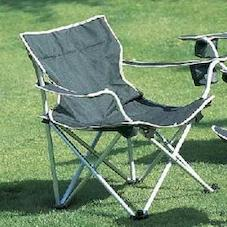chair: (17, 8, 216, 212)
